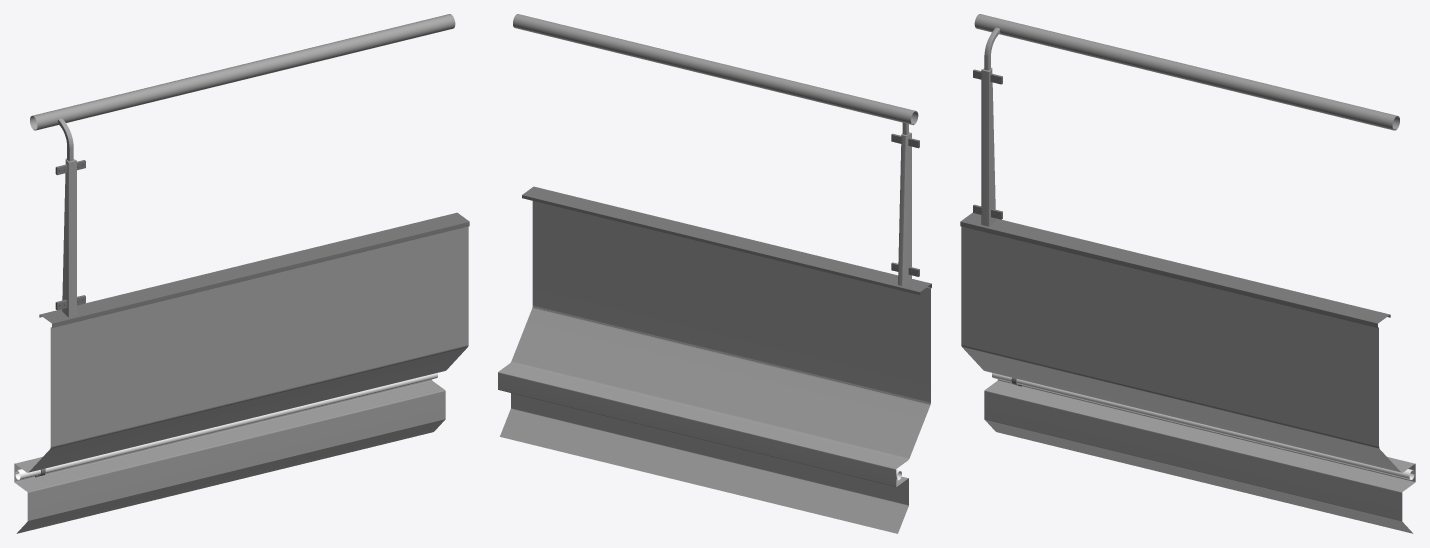
Rendered from SM_Balcony.fbx.
3 renders of one model, left to right at view 1: azimuth 30°, elevation 25°; view 2: azimuth 150°, elevation 25°; view 3: azimuth 330°, elevation 25°, orthographic. The views are drawn at different scales.
Visible parts, largest first — view 1: Balcony, Railing, RailingSupport, EnergyTube; view 2: Balcony, Railing, RailingSupport; view 3: Balcony, Railing, RailingSupport, EnergyTube.
Boxes of the visible parts, left/top/right/bottom form: Balcony: left=14, top=212, right=469, bottom=533; Railing: left=30, top=14, right=455, bottom=130; RailingSupport: left=55, top=118, right=85, bottom=317; EnergyTube: left=15, top=373, right=437, bottom=479; Balcony: left=498, top=186, right=931, bottom=533; Railing: left=513, top=14, right=918, bottom=125; RailingSupport: left=891, top=122, right=919, bottom=285; Balcony: left=960, top=212, right=1415, bottom=533; Railing: left=974, top=14, right=1399, bottom=130; RailingSupport: left=973, top=27, right=1002, bottom=226; EnergyTube: left=992, top=373, right=1414, bottom=479.
Bounding box in the file's own units: 3 × 2.95 × 0.4672.
